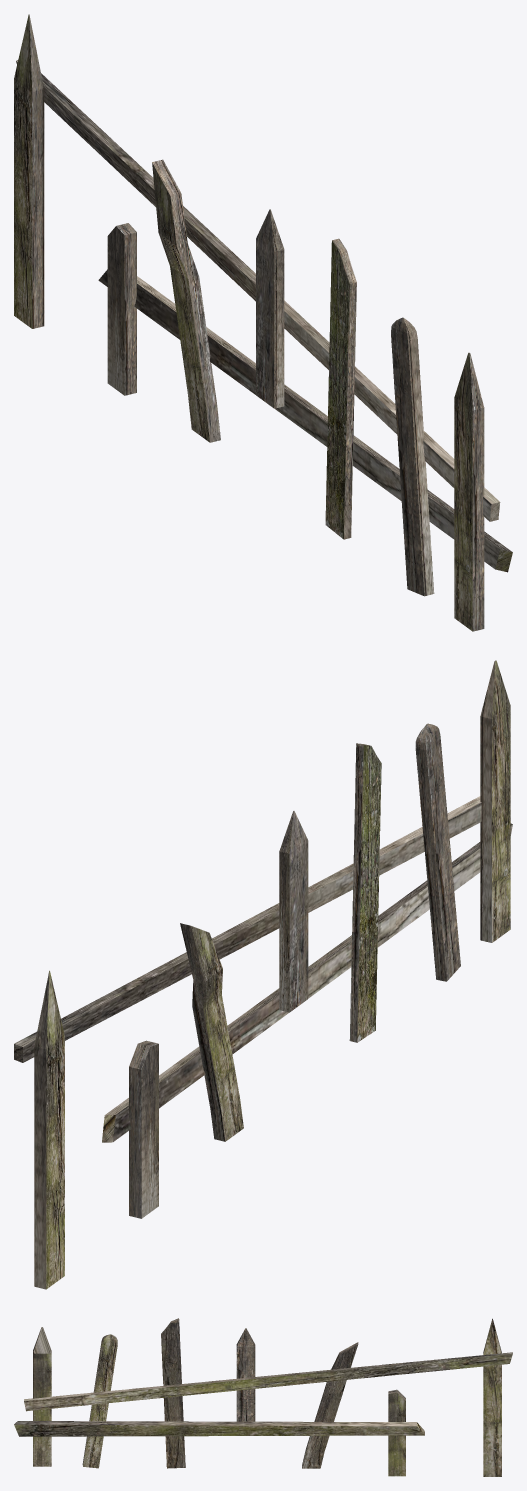
File: Fence.fbx
The picture shows the model from 3 angles, top to bottom: view 1: azimuth 30°, elevation 25°; view 2: azimuth 150°, elevation 25°; view 3: azimuth 270°, elevation 25°; orthographic projection. The views are drawn at different scales.
Parts seen in each view (by area): view 1: Cube.006; view 2: Cube.006; view 3: Cube.006.
Boxes of the visible parts, x1=… form: Cube.006: x1=14, y1=14, x2=512, y2=631; Cube.006: x1=14, y1=660, x2=512, y2=1289; Cube.006: x1=14, y1=1318, x2=512, y2=1476.
Bounding box in the file's own units: 196 × 1844 × 5319.
